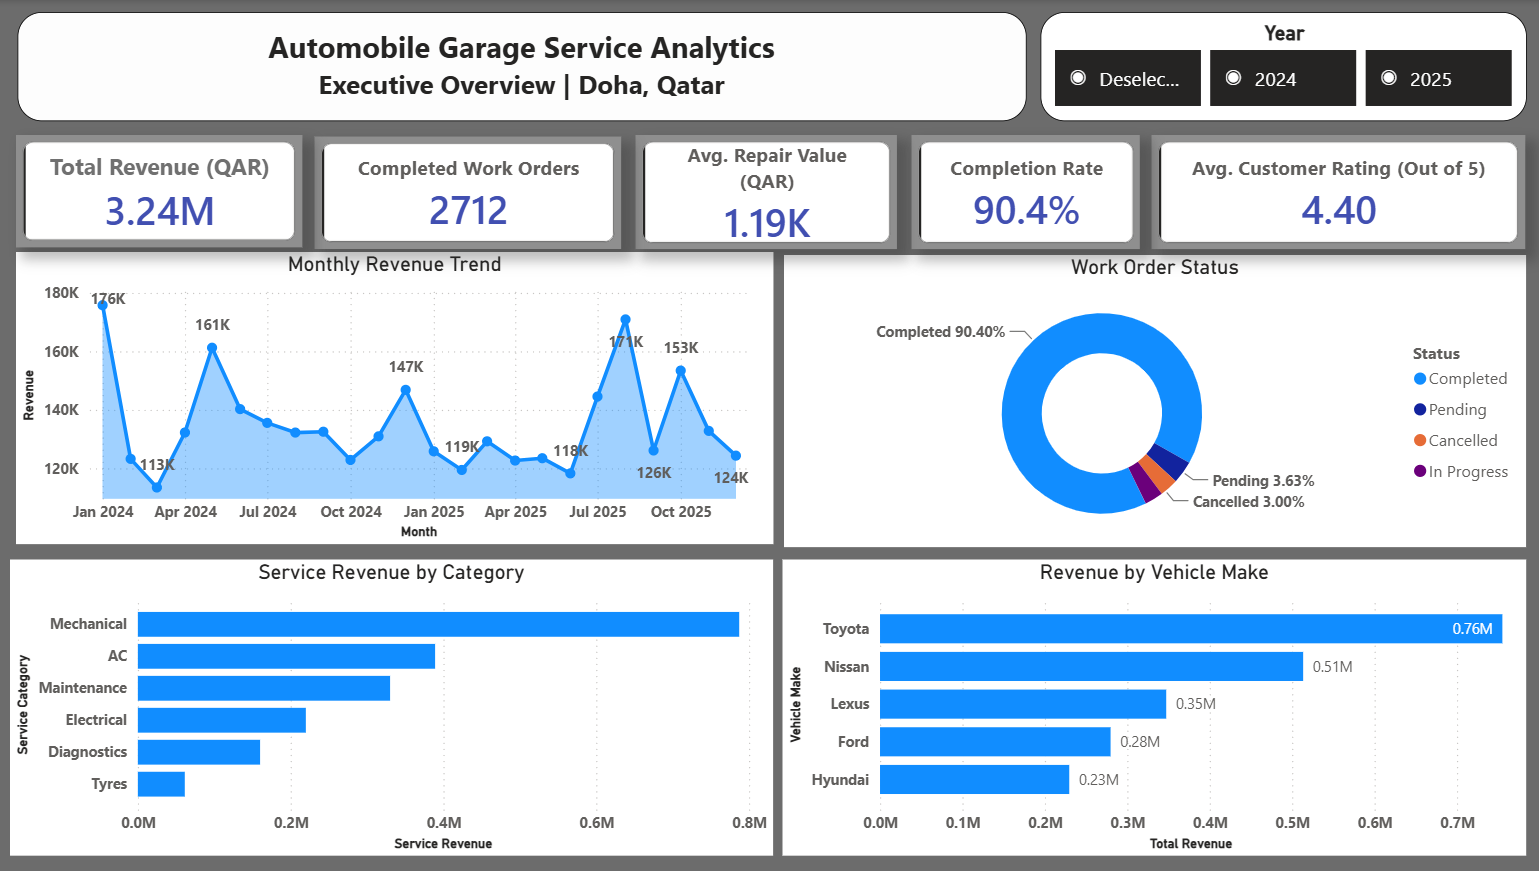

This screenshot's page, from the dashboard's own definition file:
{"tool":"powerbi","page":{"name":"Executive Overview","canvas":[1280,720],"ordinal":0},"visuals":[{"type":"lineChart","title":"Monthly Revenue Trend","fields":{"Category":["DateTable.Month Start"],"Y":["WorkOrdersTable.Total Revenue"]},"box":[17.3,207.9,623.7,241],"z":0},{"type":"donutChart","title":"Work Order Status","fields":{"Category":["WorkOrdersTable.WorkOrderStatus"],"Y":["WorkOrdersTable.Total Work Orders"]},"box":[650.5,209.5,611.1,241],"z":1000},{"type":"cardVisual","fields":{"Data":["WorkOrdersTable.Average Repair Value"]},"box":[527.1,110.8,215.2,94.1],"z":2000},{"type":"textbox","box":[18,10.3,831.1,90.2],"z":3000},{"type":"cardVisual","fields":{"Data":["WorkOrdersTable.Completed Work Orders"]},"box":[262.9,112.1,252.6,92.8],"z":4000},{"type":"cardVisual","fields":{"Data":["WorkOrdersTable.Average Customer Rating"]},"box":[952.3,110.8,308,94.1],"z":5000},{"type":"barChart","title":"Service Revenue by Category","fields":{"Category":["ServicesTable.ServiceCategory"],"Y":["ServicesTable.Service Revenue"]},"box":[12.6,461.5,628.5,244.1],"z":6000},{"type":"cardVisual","fields":{"Data":["WorkOrdersTable.Completion Rate"]},"box":[755.2,110.8,188.1,94.1],"z":7000},{"type":"barChart","title":"Revenue by Vehicle Make","fields":{"Y":["WorkOrdersTable.Total Revenue"],"Category":["VehiclesTable.VehicleMake"]},"box":[648.9,461.5,612.7,244.1],"z":8000},{"type":"cardVisual","title":"Total Revenue (QAR)","fields":{"Data":["WorkOrdersTable.Total Revenue"]},"box":[16.8,110.8,235.8,92.8],"z":9000},{"type":"advancedSlicerVisual","fields":{"Values":["DateTable.Year"]},"box":[860.8,10.3,400.8,90.2],"z":10000}]}

Visuals, with their boxes in screenshot pixels (x1, y1, x2, y2), scaled from the page's 1280x720 canvas onto the 1539x871 screenshot:
"Monthly Revenue Trend" lineChart: 21:252:771:543
"Work Order Status" donutChart: 782:253:1517:545
cardVisual - WorkOrdersTable.Average Repair Value: 634:134:892:248
textbox: 22:12:1021:122
cardVisual - WorkOrdersTable.Completed Work Orders: 316:136:620:248
cardVisual - WorkOrdersTable.Average Customer Rating: 1145:134:1515:248
"Service Revenue by Category" barChart: 15:558:771:854
cardVisual - WorkOrdersTable.Completion Rate: 908:134:1134:248
"Revenue by Vehicle Make" barChart: 780:558:1517:854
"Total Revenue (QAR)" cardVisual: 20:134:304:246
advancedSlicerVisual - DateTable.Year: 1035:12:1517:122
